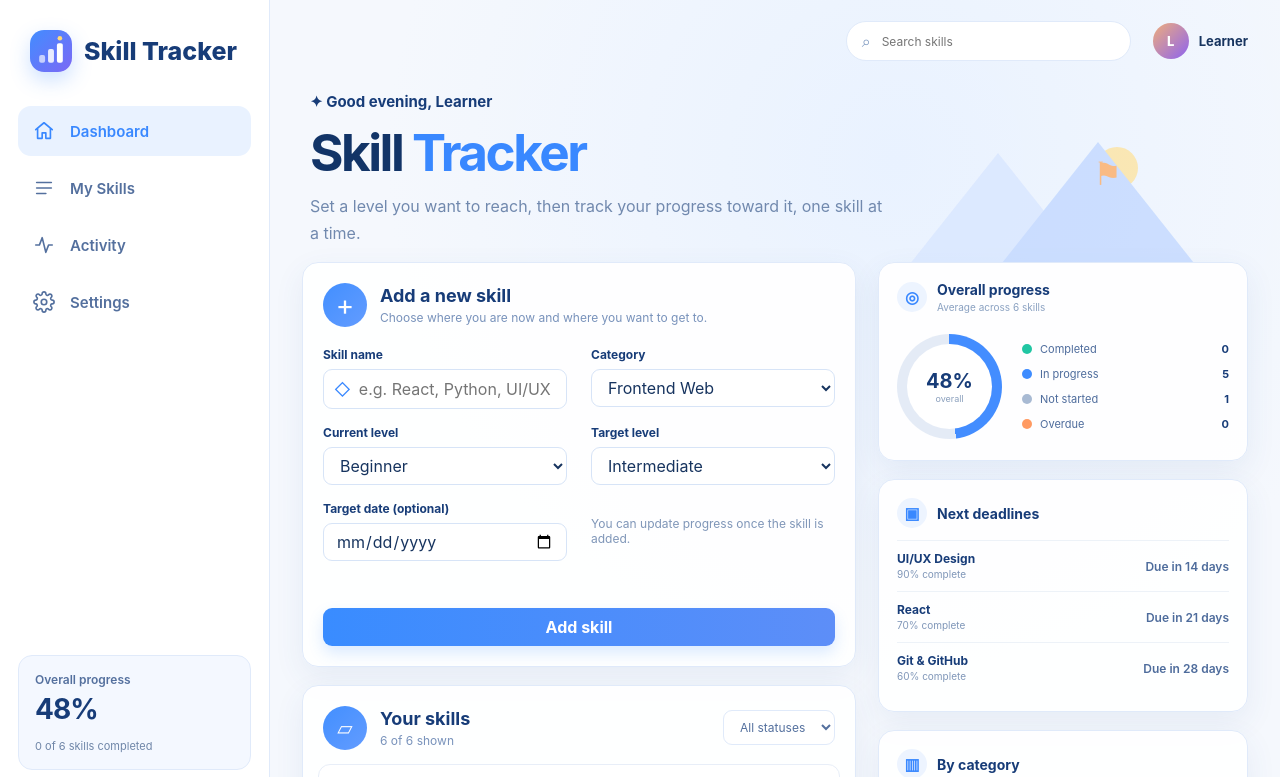
Test: Skill Tracker app › filters by status and search
The width and height of the screenshot is (1280, 777).
Select "Not Started" in the dropdown named "filter by status": [779, 728] box [723, 710, 835, 745]
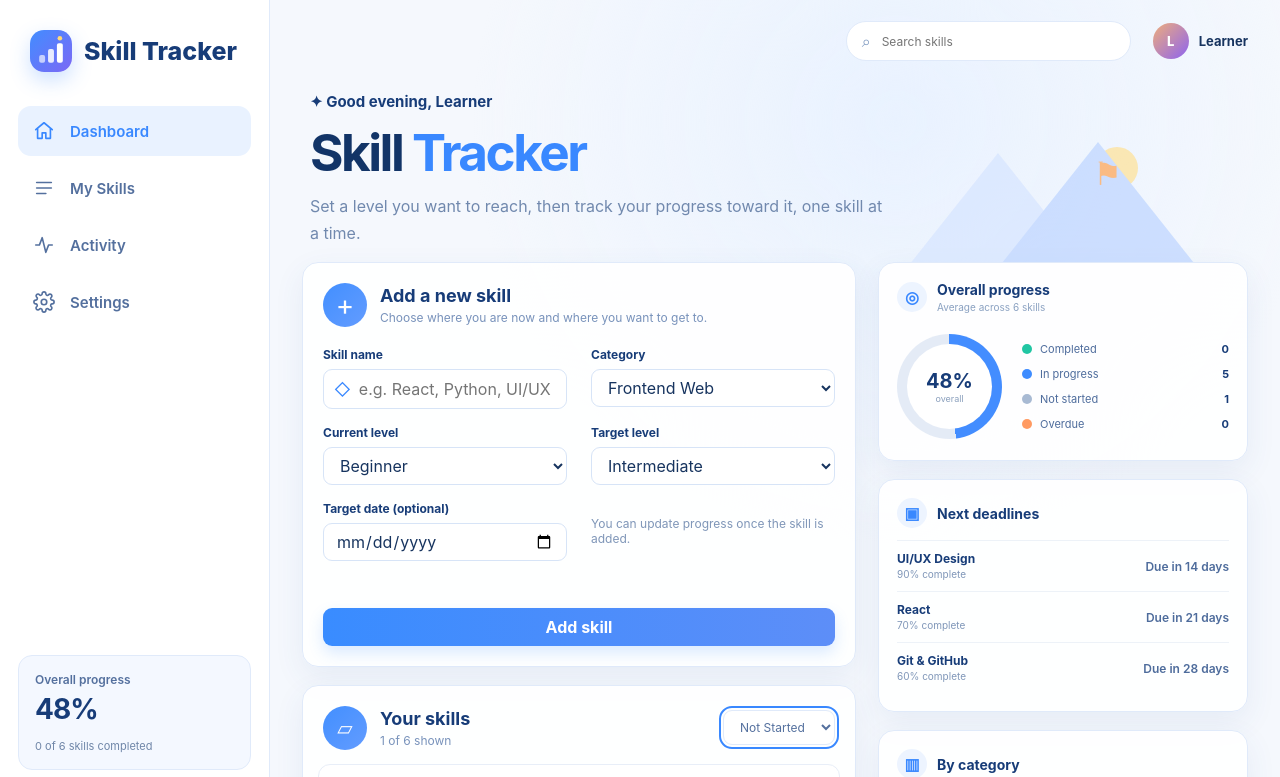
Select "All statuses" in the dropdown named "filter by status": [779, 728] box [723, 710, 835, 745]
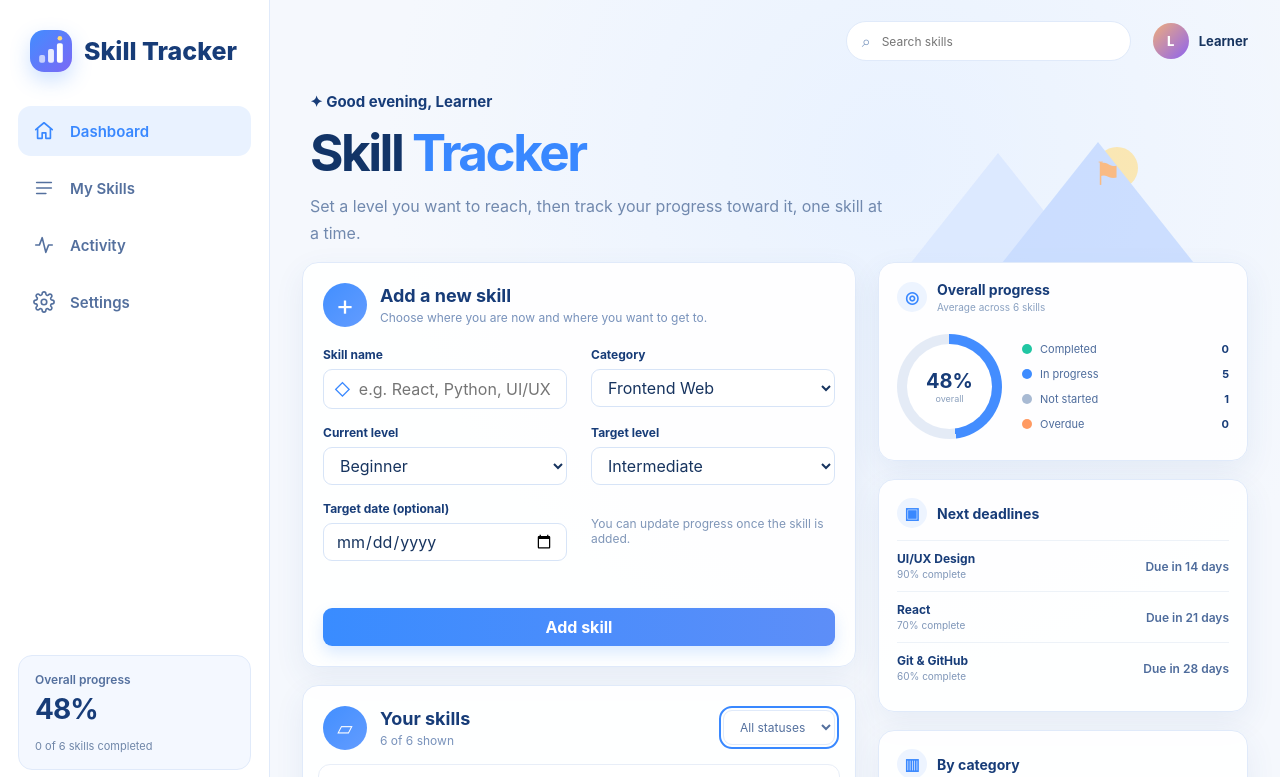
In the search field named "Search skills": [997, 41] box [880, 32, 1115, 50], type "design"
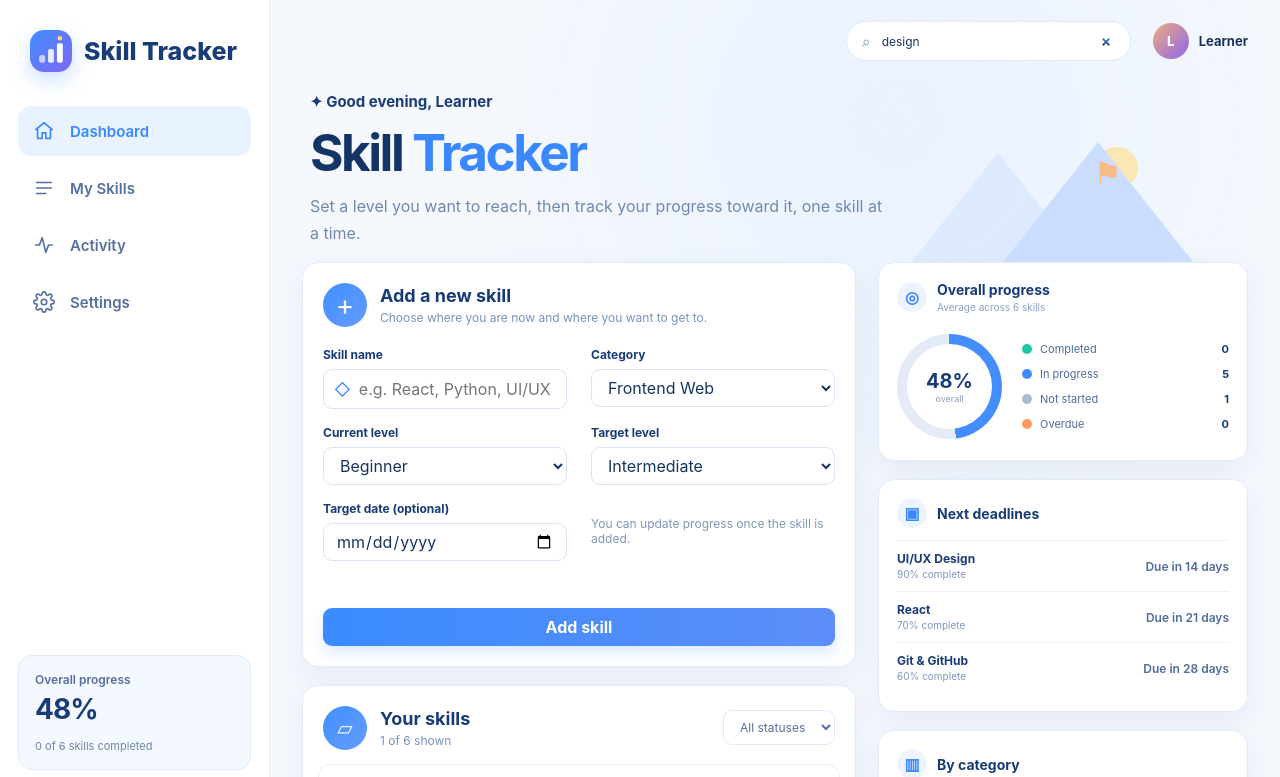
In the search field named "Search skills": [997, 41] box [880, 32, 1115, 50], type "zzz"
(page scrolled)
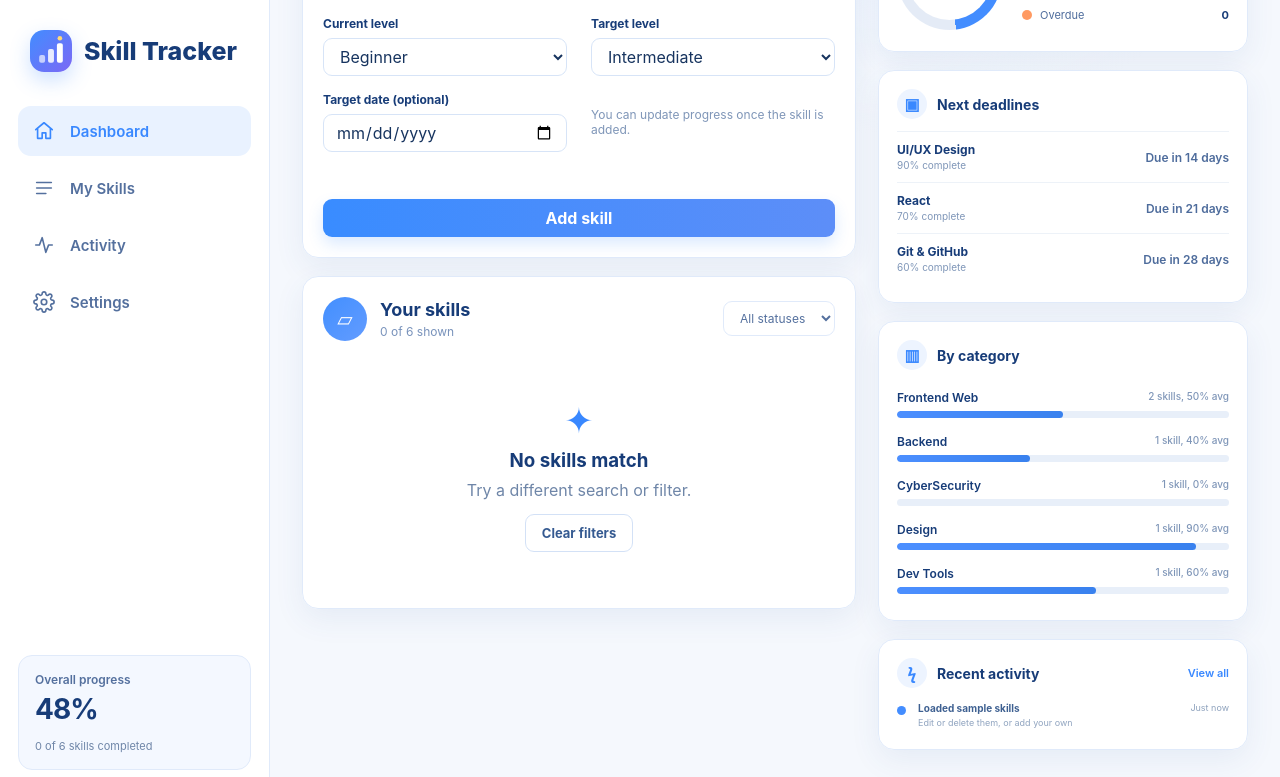
Now the heading "No skills match" is shown, box [510, 449, 648, 472]
